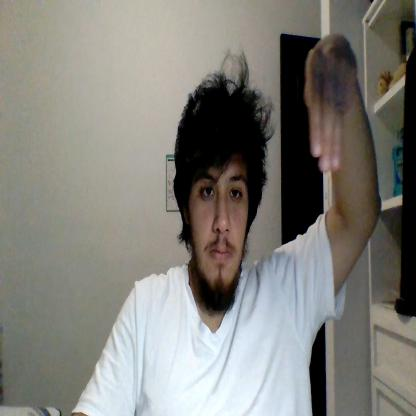M: (306, 33, 357, 173)
